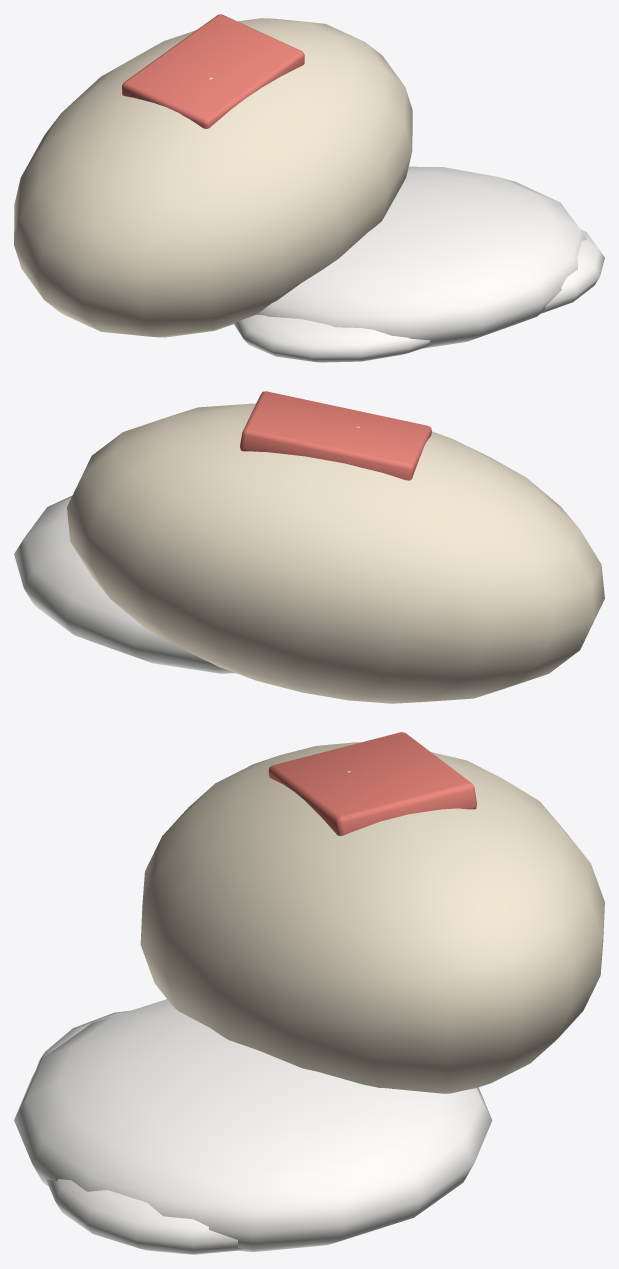
The model's file is obs_flour_spill.glb.
The picture shows the model from 3 angles, top to bottom: view 1: azimuth 30°, elevation 25°; view 2: azimuth 150°, elevation 25°; view 3: azimuth 270°, elevation 25°; orthographic projection. The views are drawn at different scales.
Visible parts, largest first — view 1: 球, FlourPile_0, SackLabel, FlourPile_2, FlourPile_1; view 2: 球, FlourPile_0, SackLabel; view 3: 球, FlourPile_0, SackLabel, FlourPile_1.
Part boxes in pixels (x1,y1,x2,y2): 球: [14, 18, 412, 337]; FlourPile_0: [257, 166, 586, 348]; SackLabel: [122, 14, 304, 128]; FlourPile_2: [234, 314, 432, 362]; FlourPile_1: [541, 229, 604, 313]; 球: [67, 403, 604, 703]; FlourPile_0: [14, 495, 235, 673]; SackLabel: [240, 391, 431, 480]; 球: [140, 742, 604, 1093]; FlourPile_0: [14, 999, 492, 1251]; SackLabel: [268, 732, 476, 835]; FlourPile_1: [46, 1179, 242, 1254].
Bounding box in the file's own units: 1.06 × 0.5085 × 0.7906.
